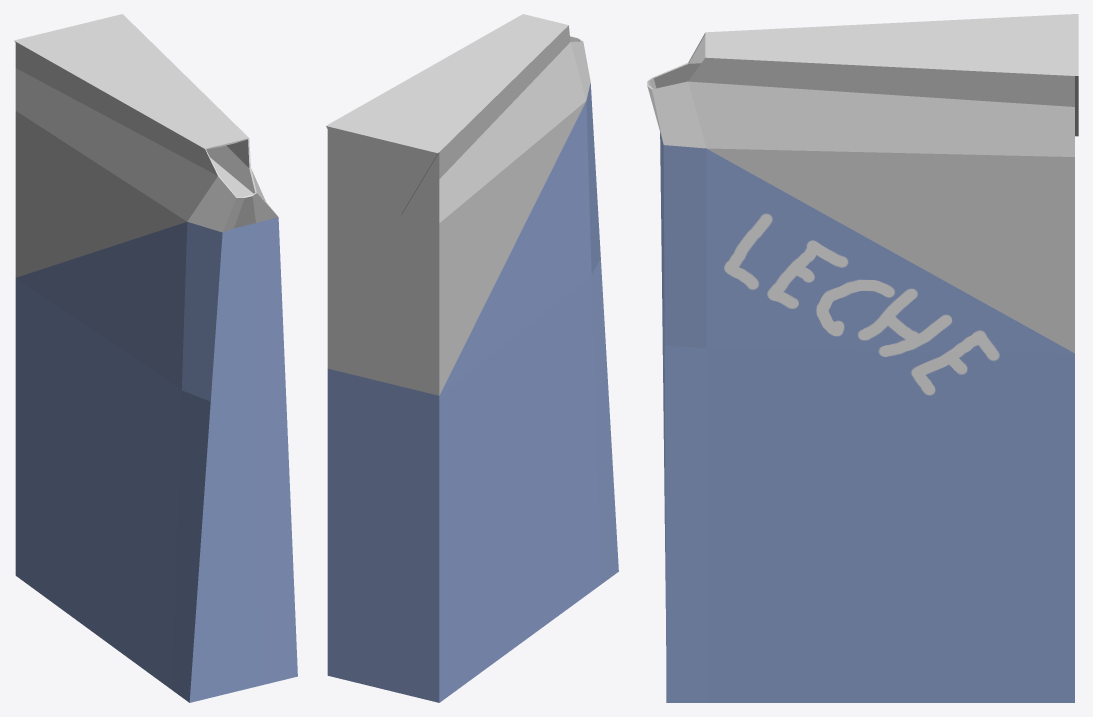
File: leche.glb
3 views of the same model, side by side, from view 1: azimuth 30°, elevation 25°; view 2: azimuth 150°, elevation 25°; view 3: azimuth 270°, elevation 25° (orthographic). The views are drawn at different scales.
Parts seen in each view (by area): view 1: leche; view 2: leche; view 3: leche.
Part boxes in pixels (box(x1,y1,x2,y2)): leche: box(14, 14, 297, 702); leche: box(326, 14, 618, 702); leche: box(647, 14, 1078, 702).
Bounding box in the file's own units: 0.719 × 3.39 × 2.11.
2 materials, 1 textured.
